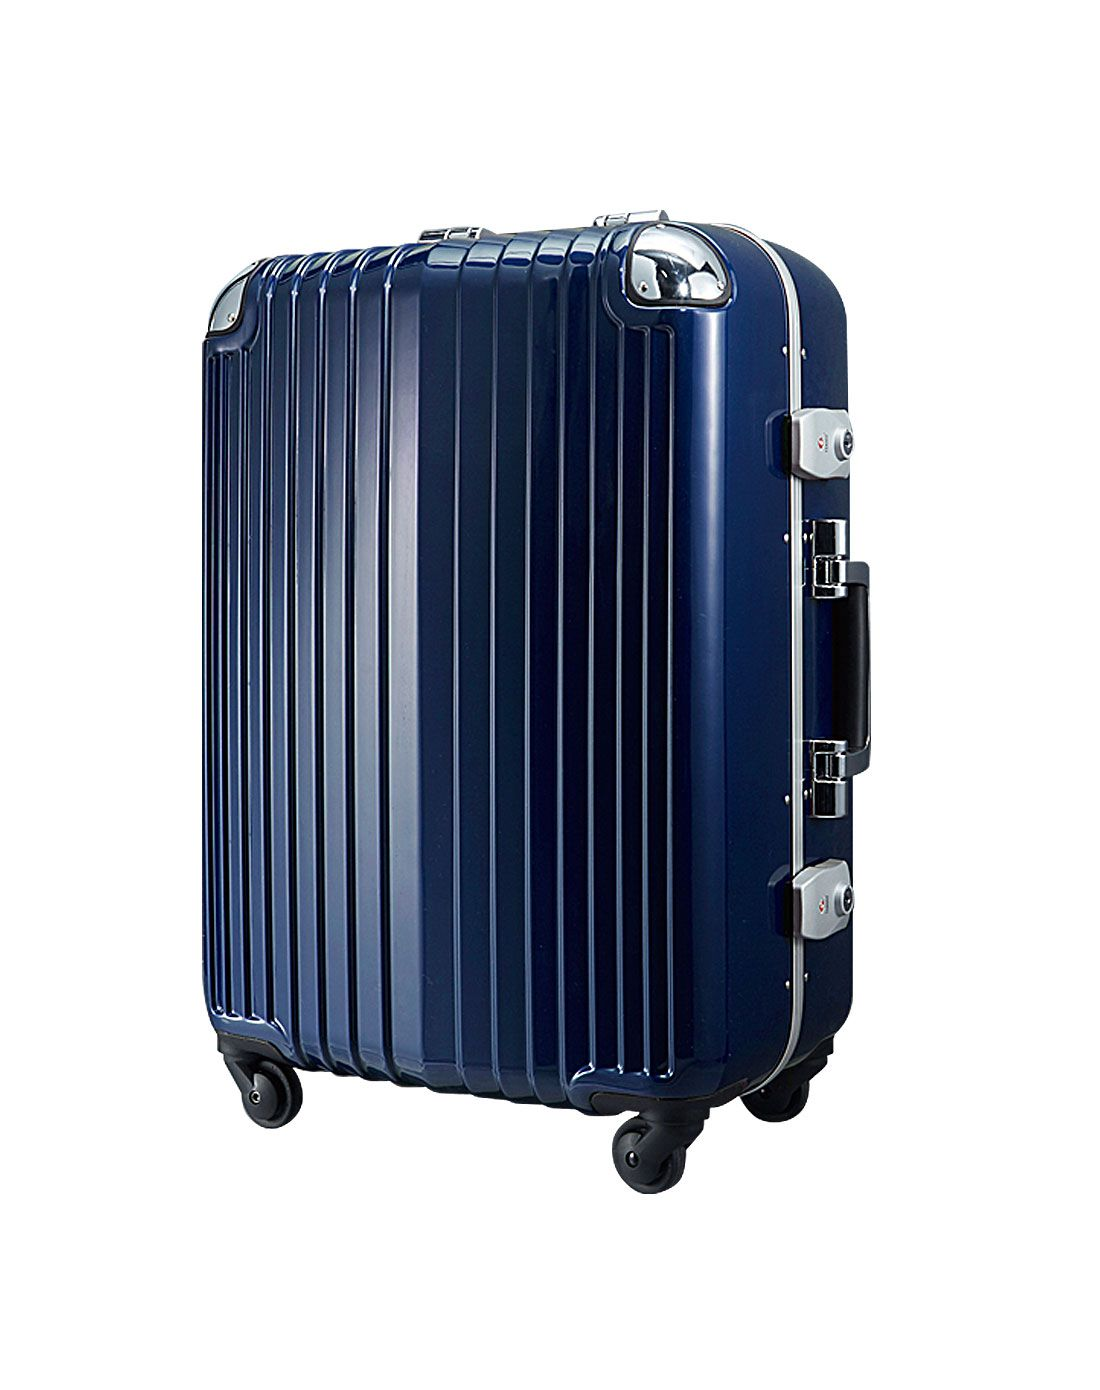luggage: (196, 206, 875, 1194)
